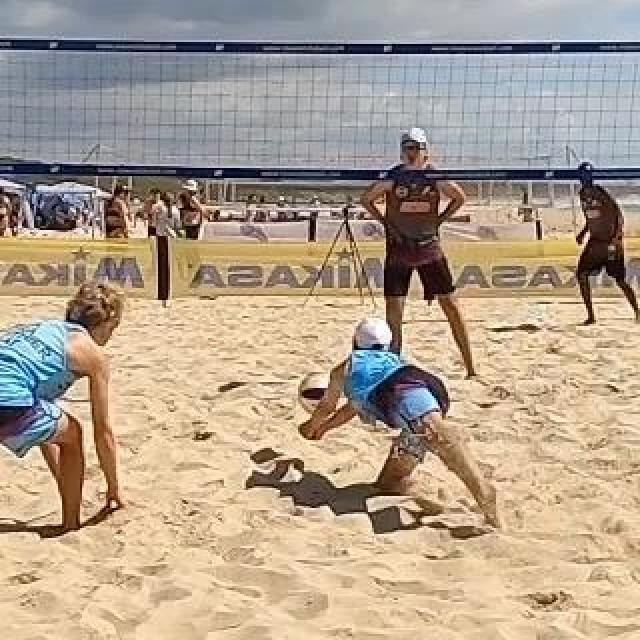volleyball: (298, 370, 342, 416)
